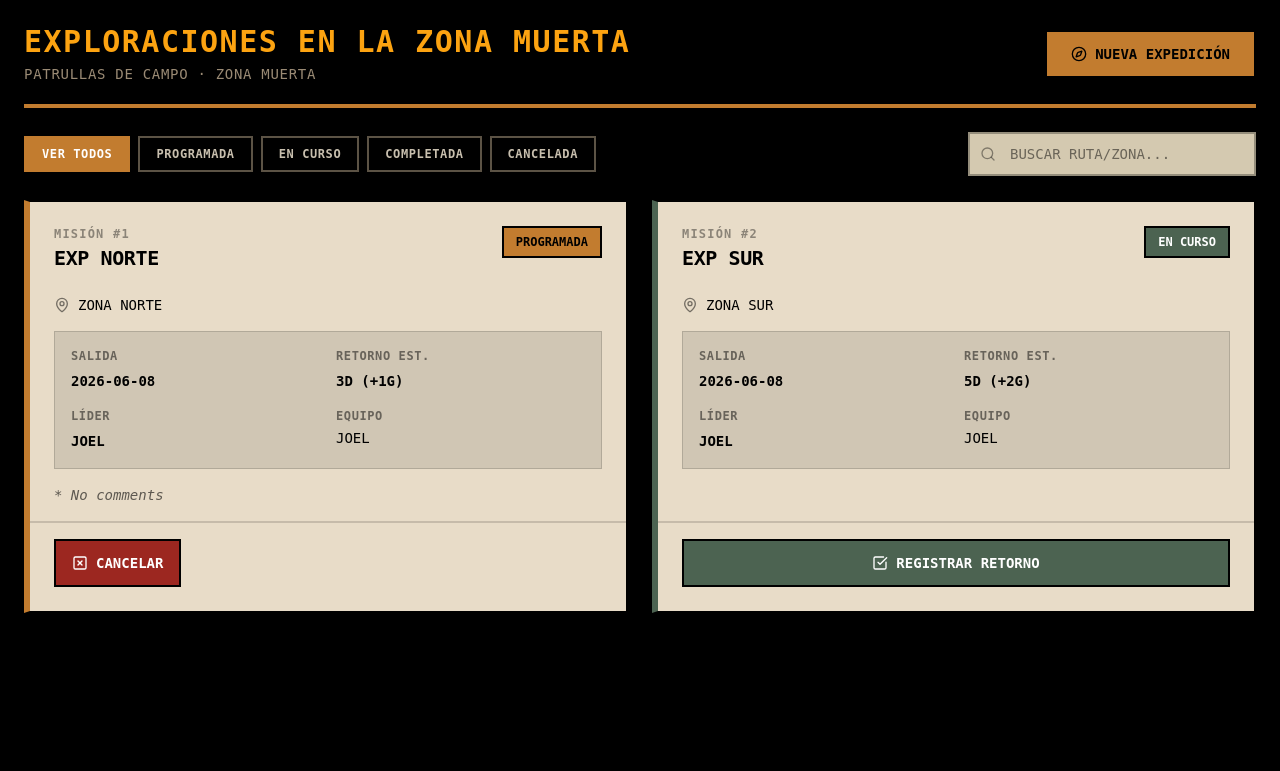
it: ExplorationsView Component › handles API error when creating an exploration
Click the button "NUEVA EXPEDICIÓN" at coordinates (1151, 54), box [1045,30,1256,78]
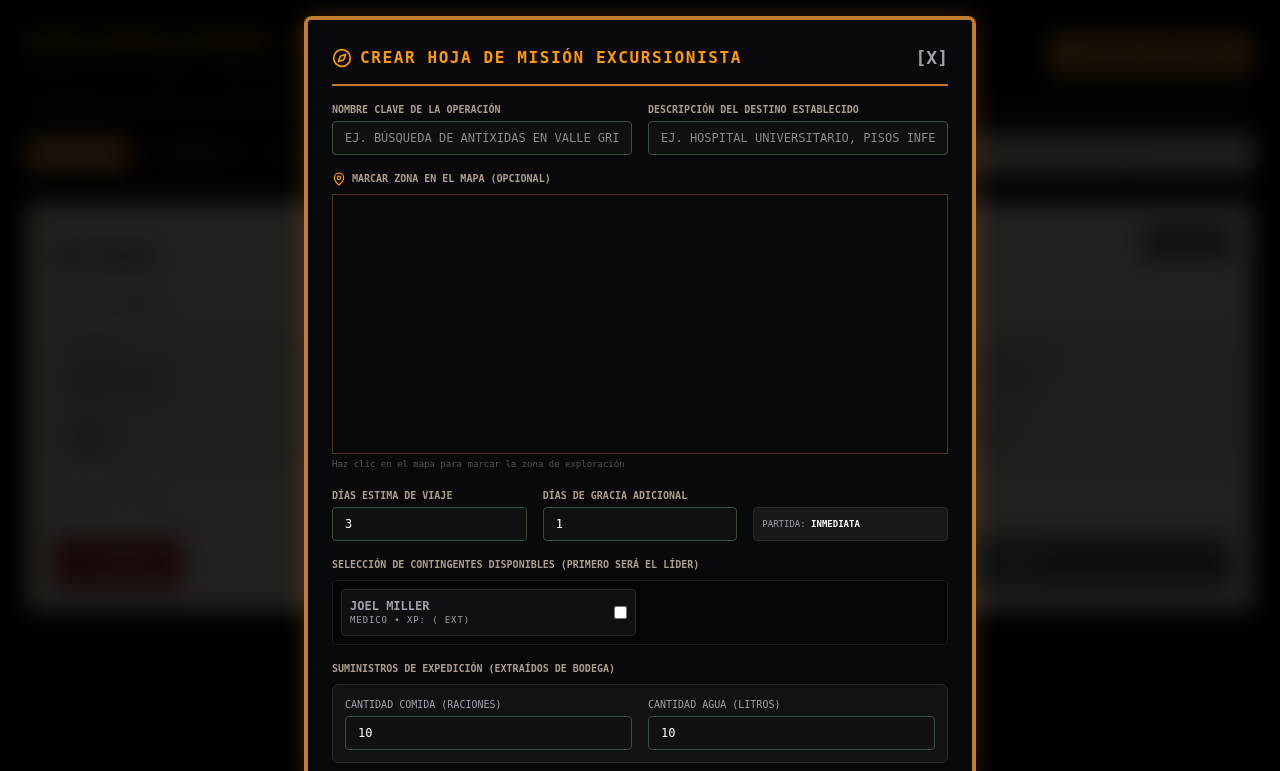
// Fill minimum required fields
Type "Mision Alfa" into the field with placeholder "EJ. BÚSQUEDA DE ANTÍXIDAS EN VALLE GRIS" at coordinates (482, 138), box [332,121,632,155]
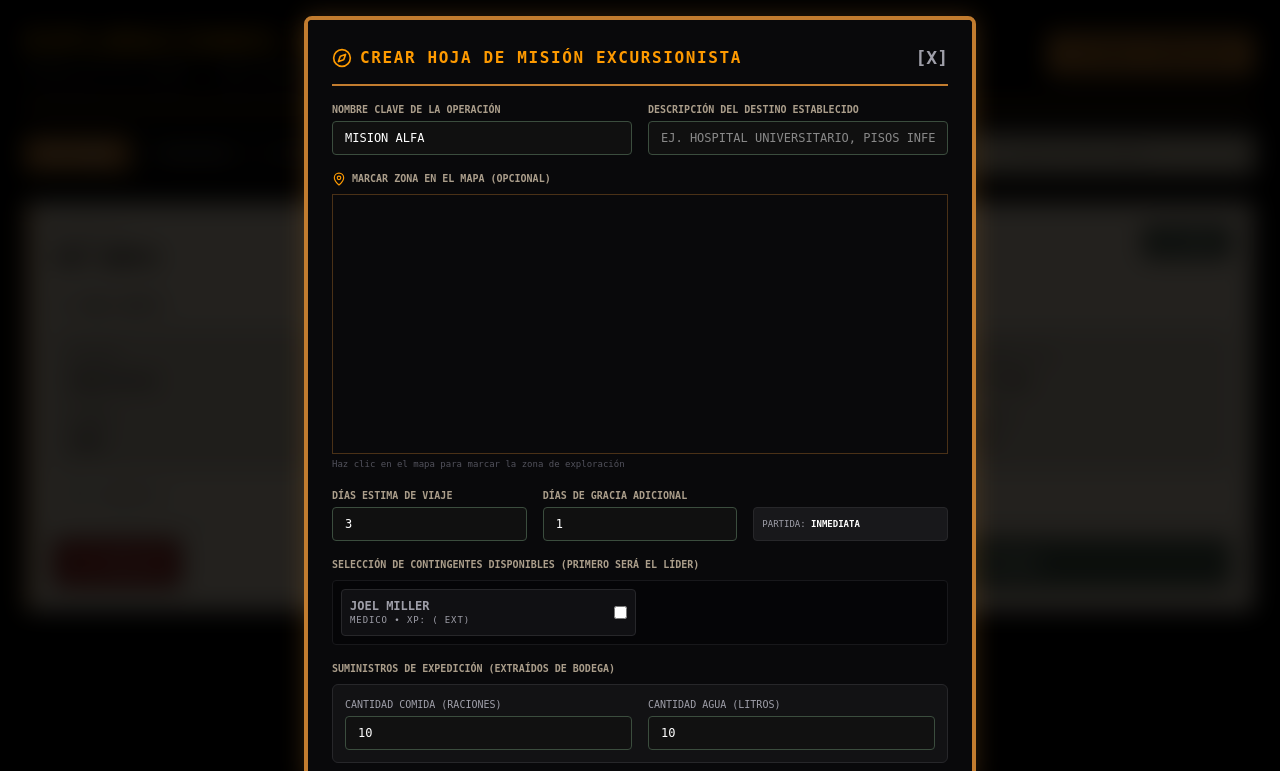
Type "Valle Gris" into the field with placeholder "EJ. HOSPITAL UNIVERSITARIO, PISOS INFERIORES" at coordinates (798, 138), box [648,121,948,155]
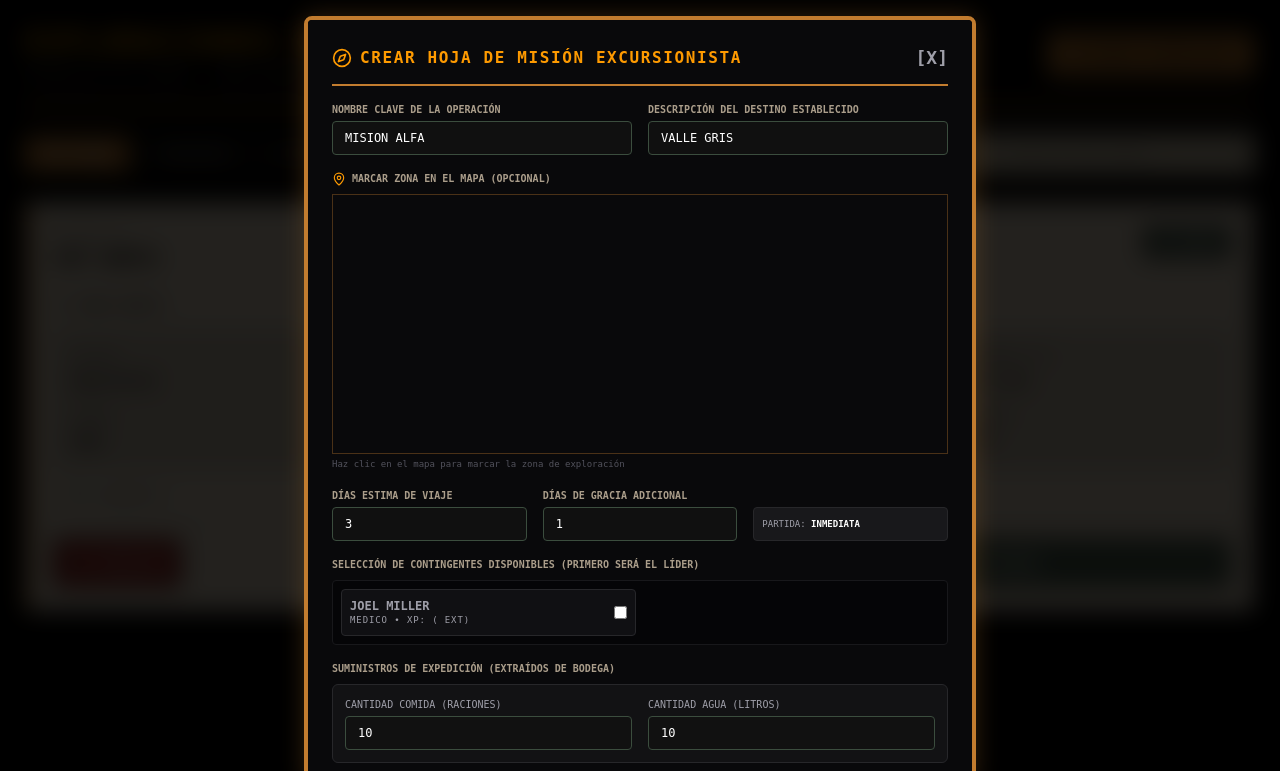
// Select crew member Joel
Click the button "Joel Miller Medico • XP: ( EXT)" at coordinates (408, 606), box [341,588,636,636]
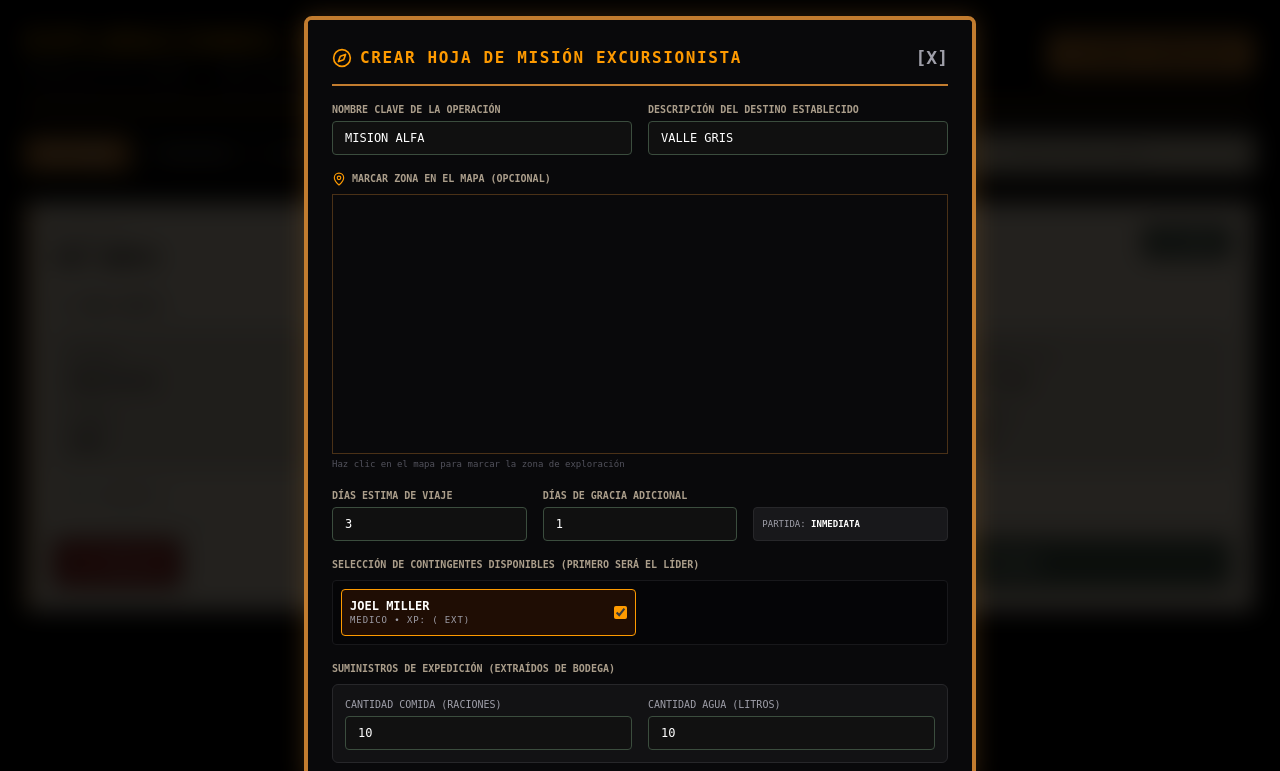
// Adjust food supply to avoid insufficient stocks validation error
Replace the text in the number field below "CANTIDAD COMIDA (RACIONES)" with "2" at coordinates (488, 733), box [345,716,632,750]
(page scrolled)
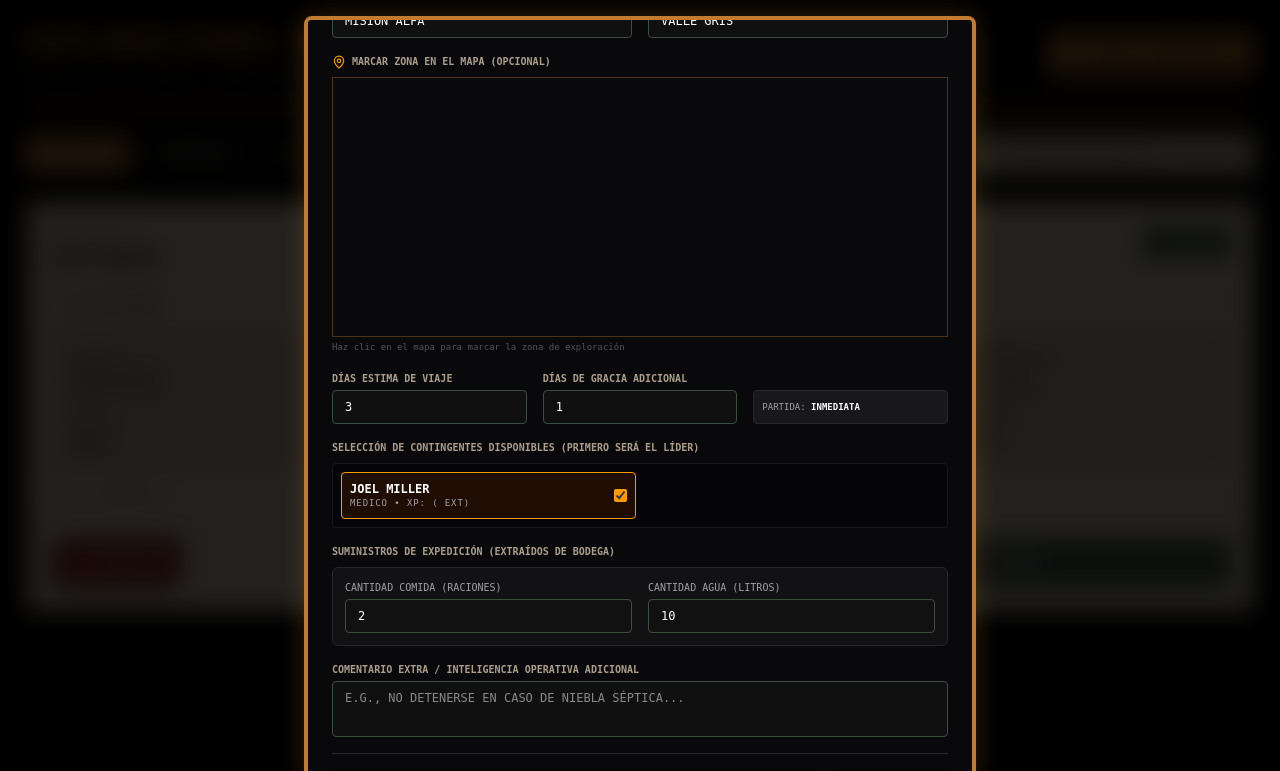
Submit the text "REGISTRAR PLAN EN CENTRAL"
(page scrolled)
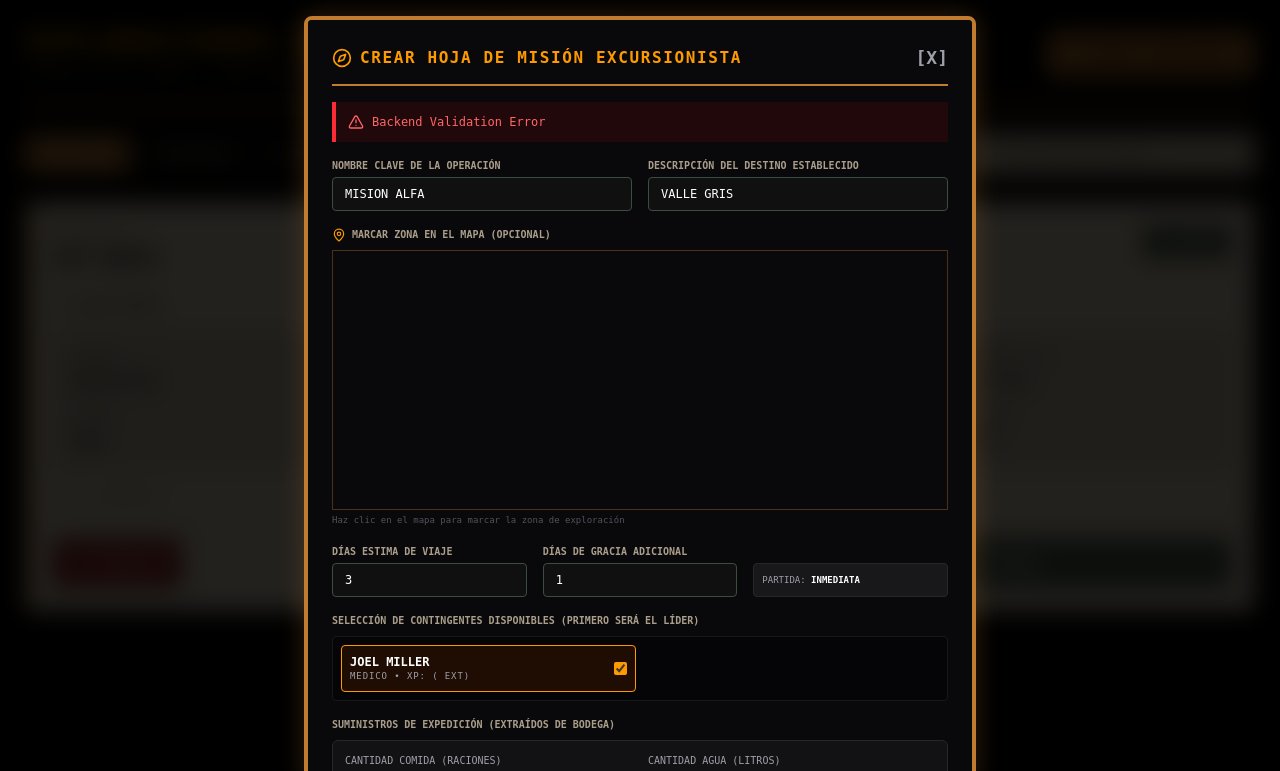
Now the text "Backend Validation Error" is shown, box [372,114,545,130]
